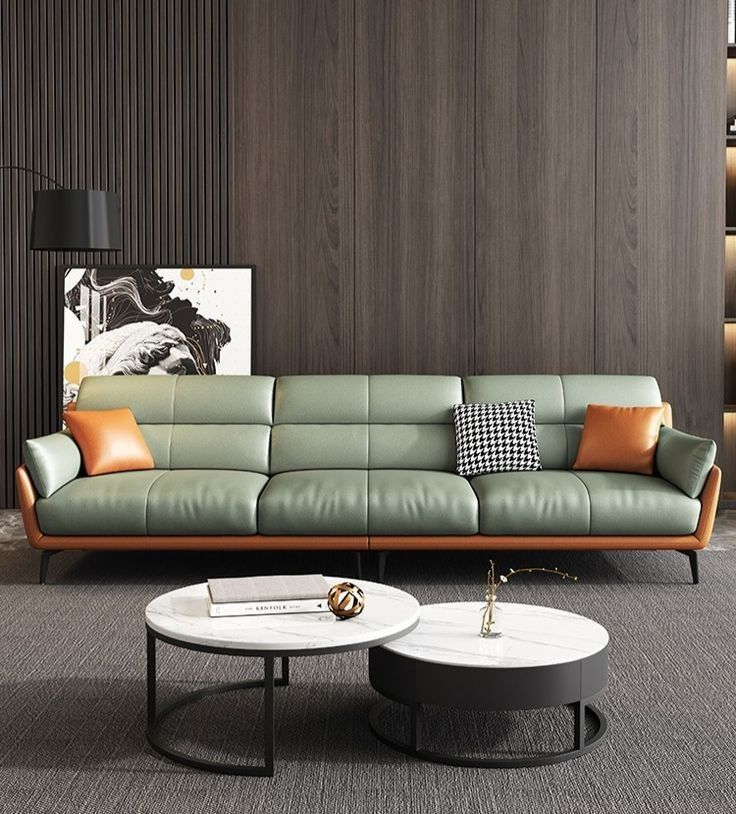3seatersofa: (17, 375, 720, 581)
base: (38, 530, 705, 552)
leftarmrest: (695, 451, 720, 547)
leg: (682, 551, 697, 583), (39, 552, 55, 581), (375, 552, 388, 581), (357, 552, 362, 576), (368, 560, 371, 575)
pillow: (26, 408, 153, 496), (454, 403, 538, 476), (574, 405, 662, 473)
rightarmrest: (16, 466, 45, 549)
seat: (37, 470, 699, 535)
